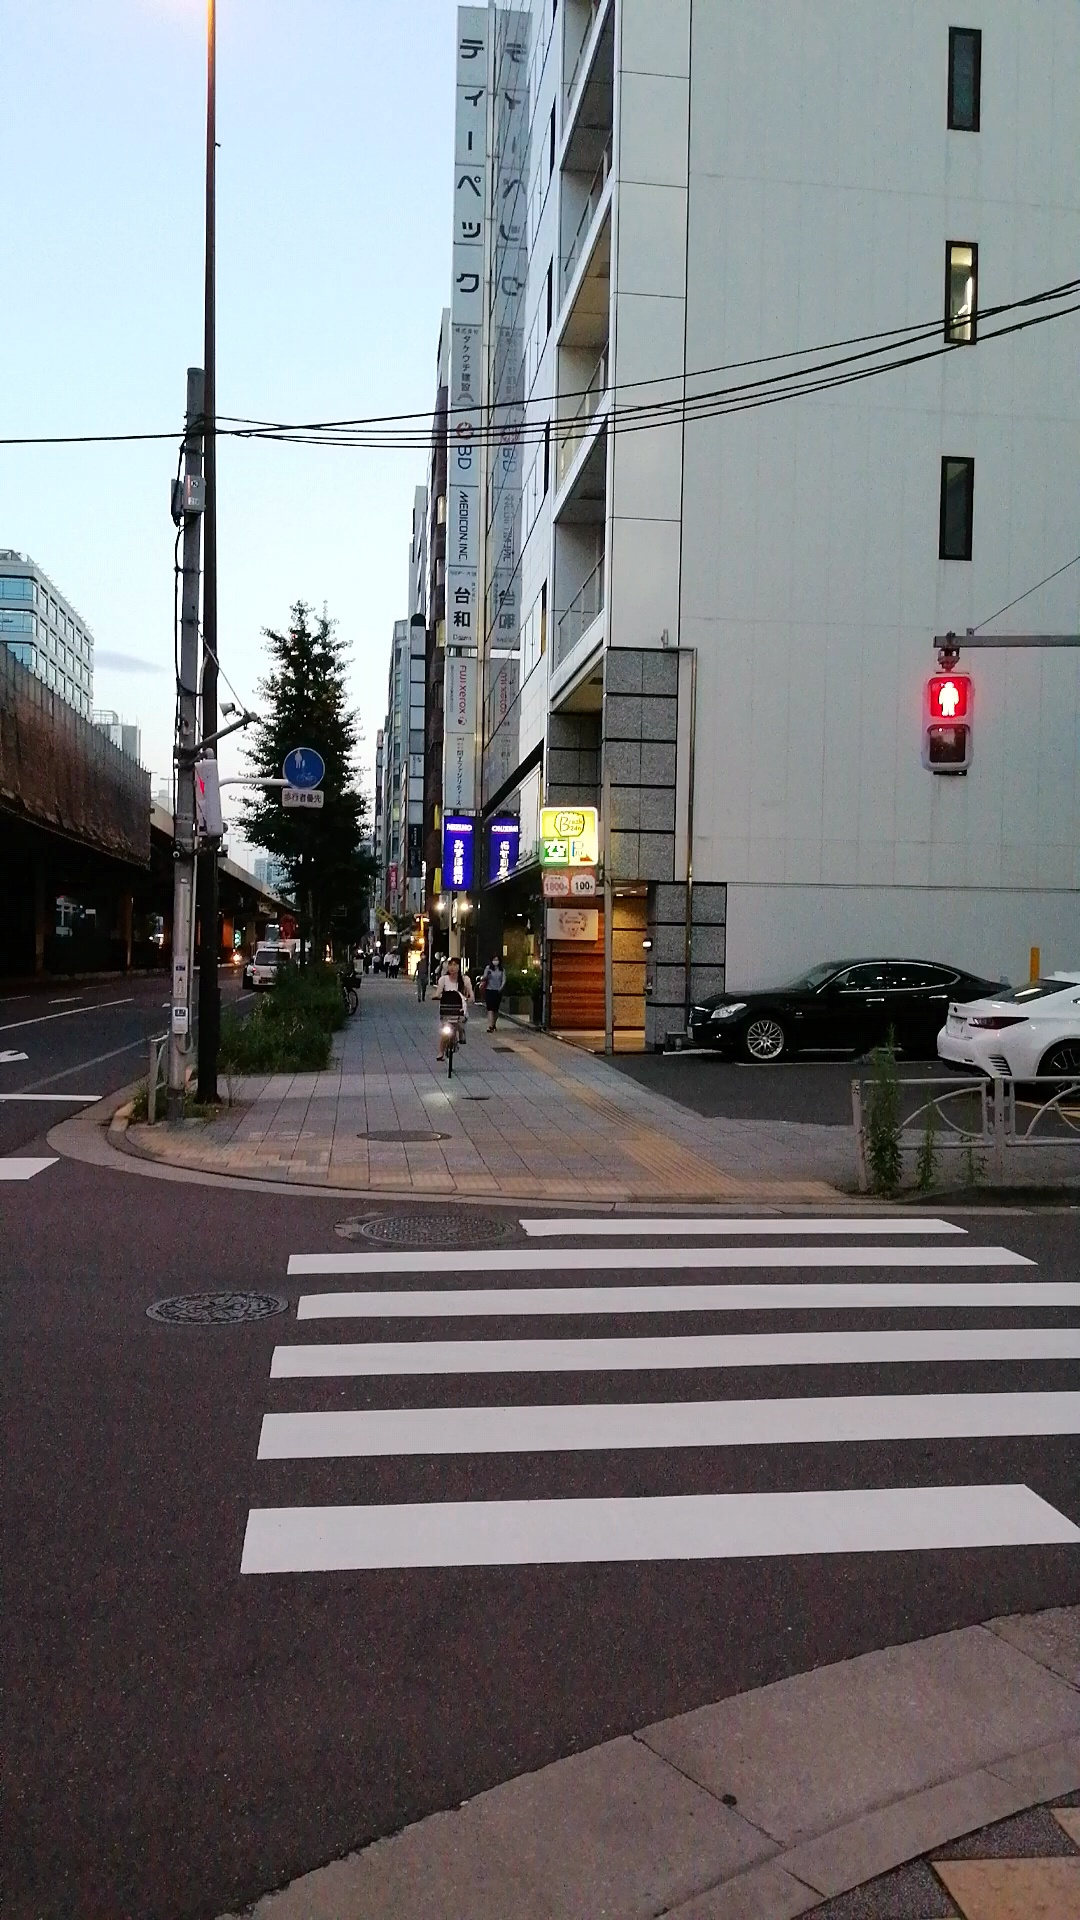red: (923, 669, 971, 771)
